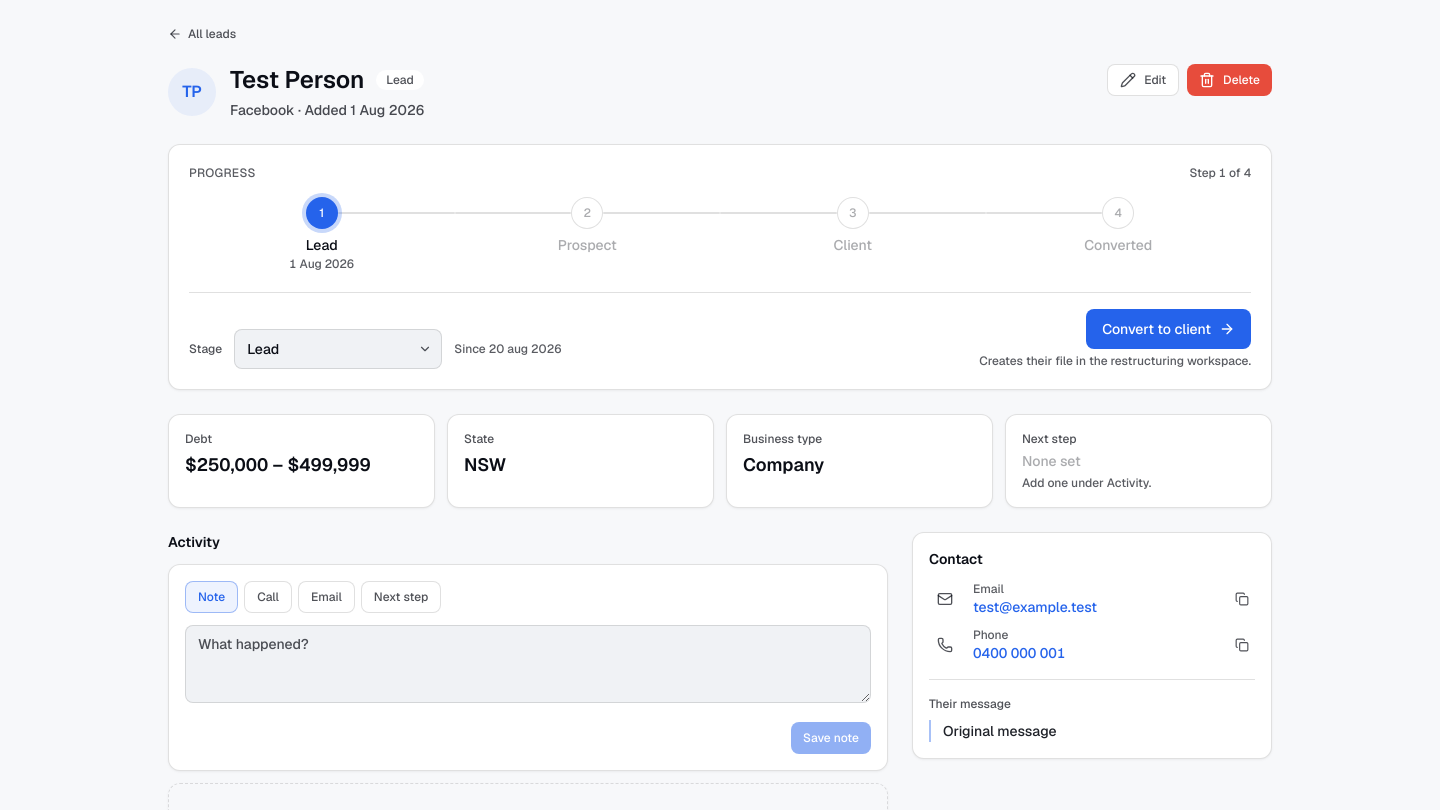
Test: Edit lead › asks for the typed source when the box is ticked and left blank
Click the button "Edit".
click(1143, 80)  # box x1=1107 y1=64 x2=1179 y2=96
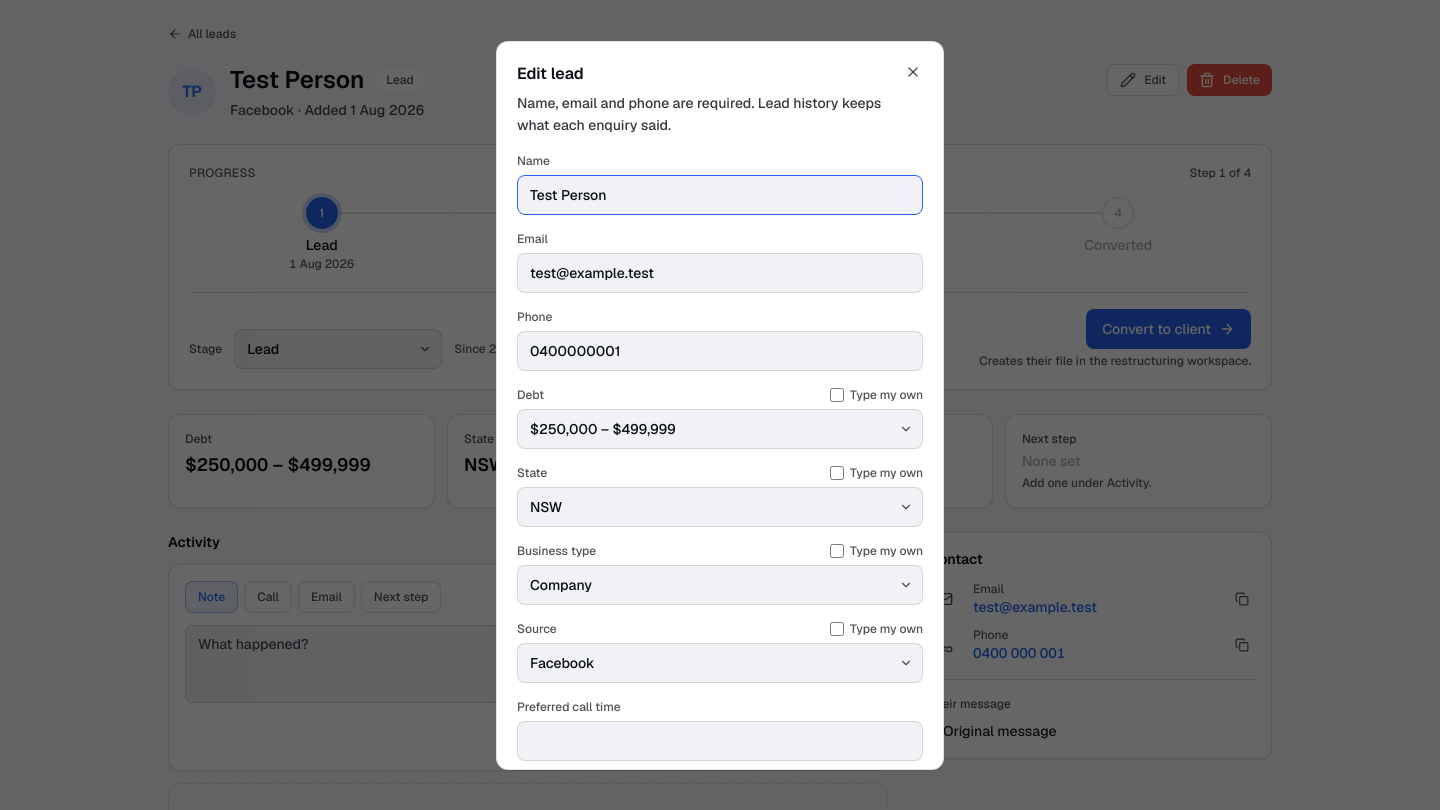
Click the checkbox named "Type my own source".
click(837, 629)  # box x1=830 y1=622 x2=844 y2=636
(page scrolled)
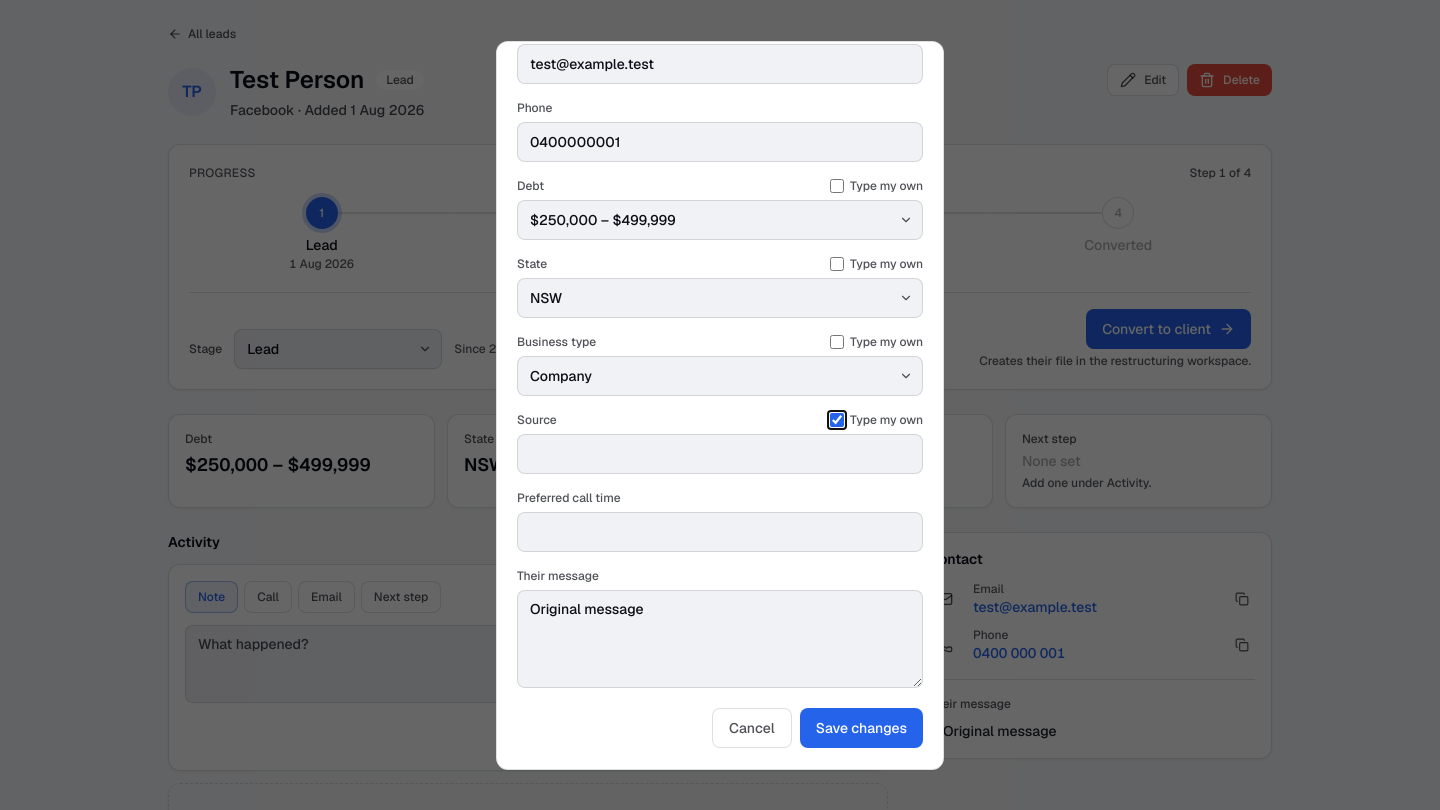
Click the button "Save changes".
click(861, 728)  # box x1=800 y1=708 x2=923 y2=748
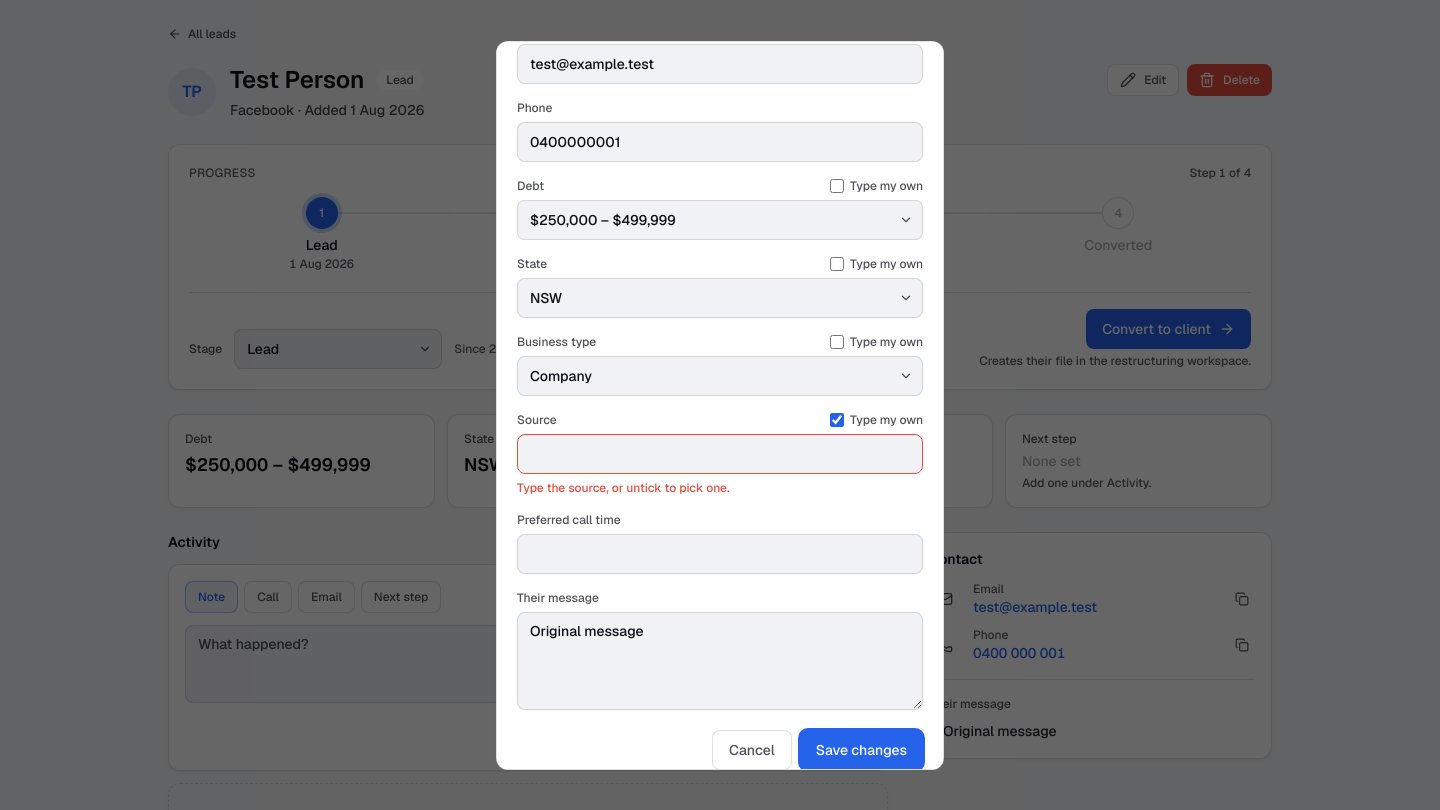
Now the text "Type the source, or untick to pick one." is shown, box x1=517 y1=480 x2=730 y2=496
